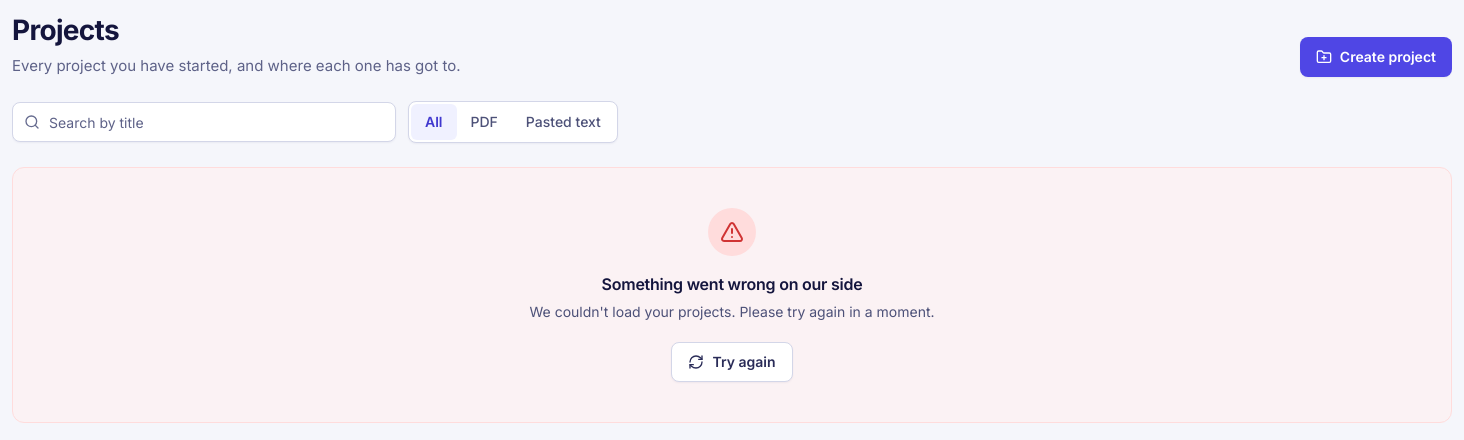
Test: Projects list › shows a plain-language error, never the raw one, and recovers on retry
Expected: the heading "Something went wrong on our side" is shown, [602,272,862,296]
Click the button "Try again": (732, 362) [672,342,793,382]
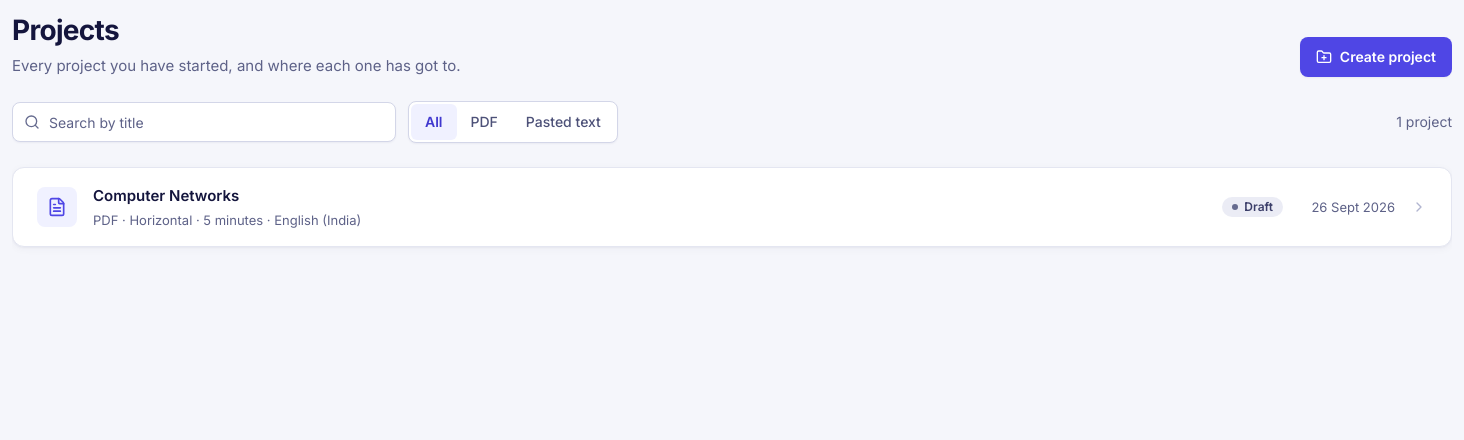
Result: the link "Computer Networks" is shown at [37,186,1427,228]
